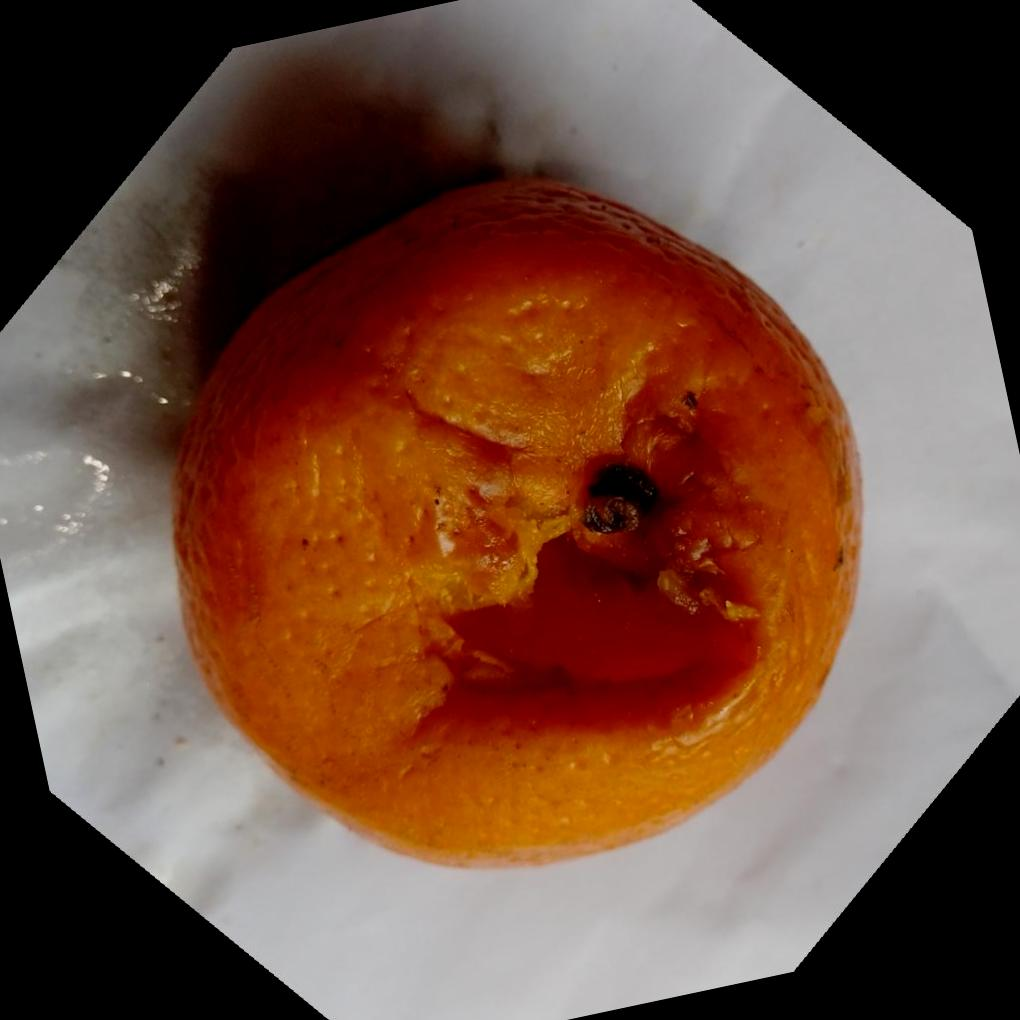FreshOrange: (164, 172, 862, 873)
